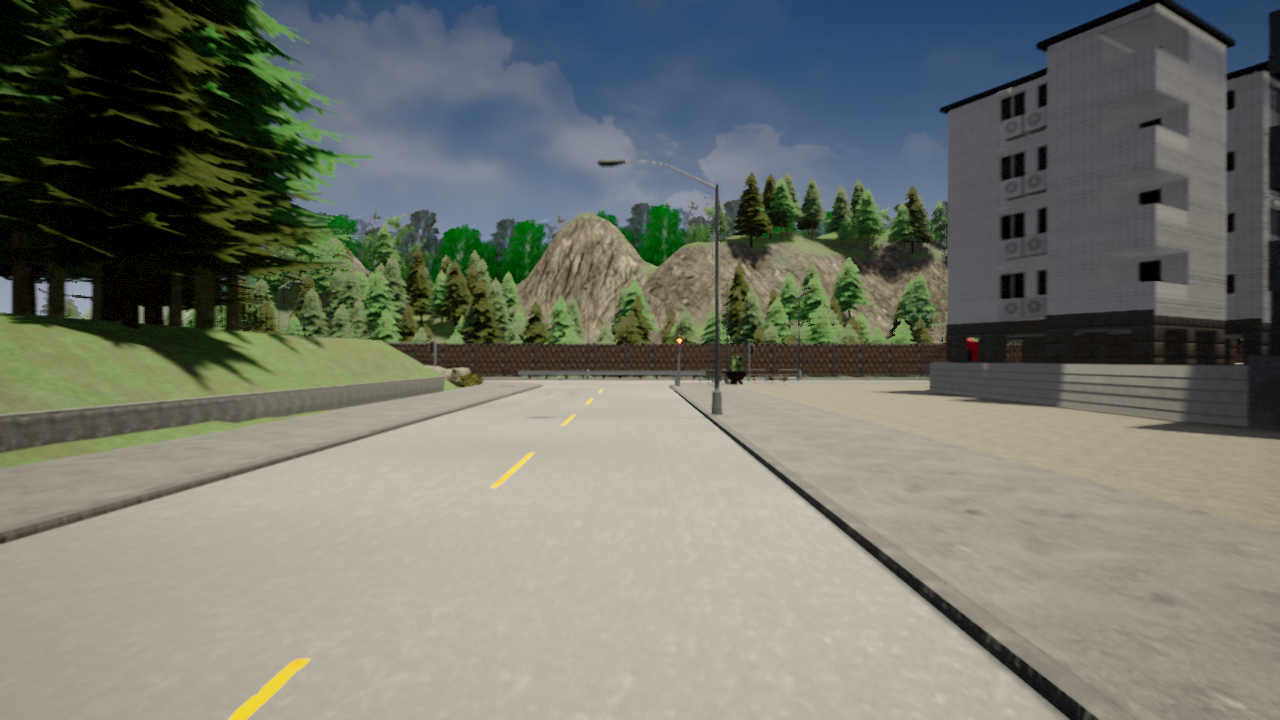red: (676, 337, 683, 353)
